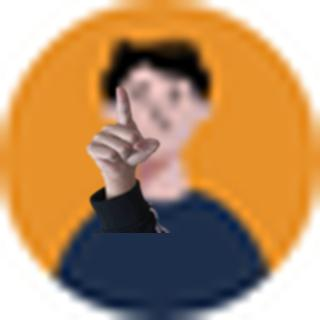IRRITATED: (83, 85, 162, 179)
